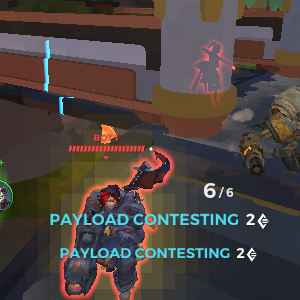model: (68, 156, 163, 295), (192, 35, 228, 105)
